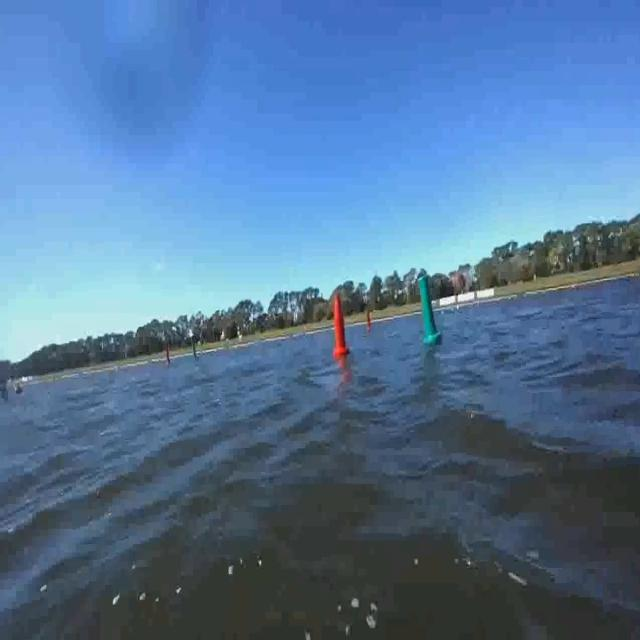green-column-buoy: (418, 277, 442, 346), (190, 338, 198, 360)
red-column-buoy: (333, 292, 351, 356), (163, 342, 170, 366), (365, 310, 372, 330)
